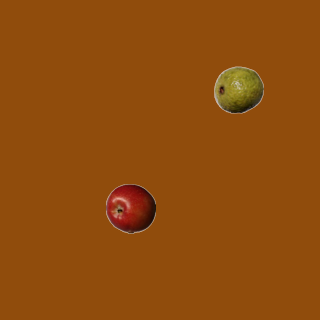Apple Braeburn: (105, 183, 155, 233)
Guava: (213, 64, 263, 114)
